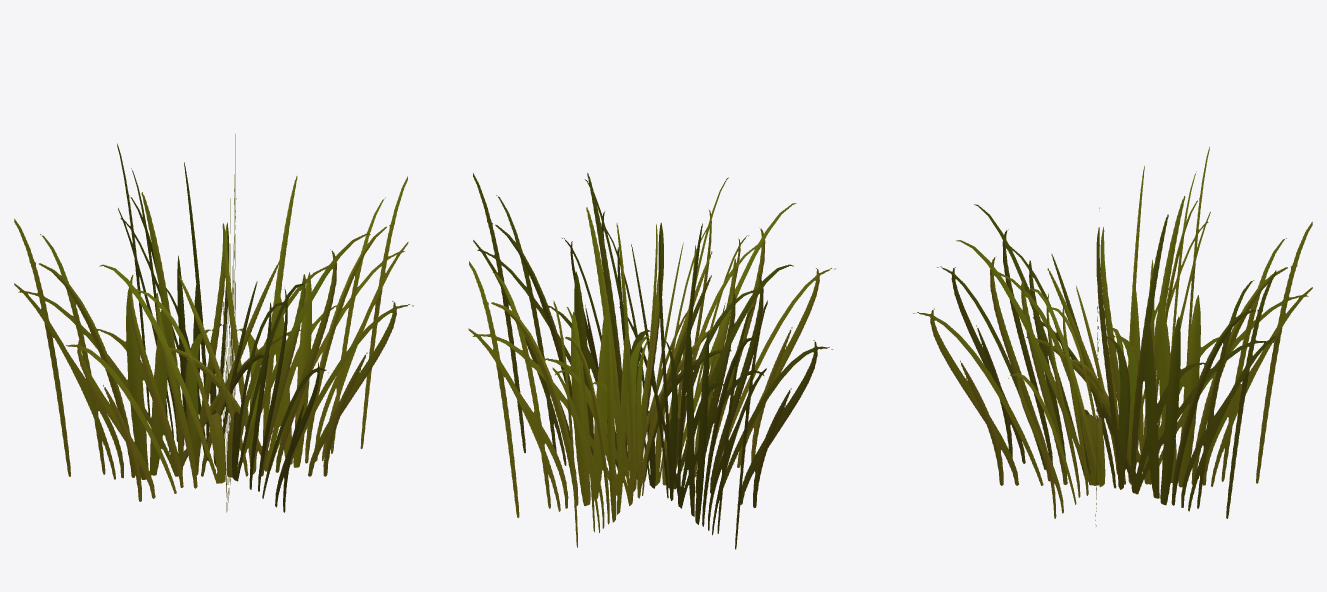
File: ARC0710014.fbx
3 renders of one model, left to right at view 1: azimuth 30°, elevation 25°; view 2: azimuth 150°, elevation 25°; view 3: azimuth 270°, elevation 25°, orthographic. The views are drawn at different scales.
Parts seen in each view (by area): view 1: smARC0710014; view 2: smARC0710014; view 3: smARC0710014.
Boxes of the visible parts, left/top/right/bottom form: smARC0710014: left=14, top=134, right=413, bottom=512; smARC0710014: left=468, top=173, right=835, bottom=549; smARC0710014: left=913, top=146, right=1312, bottom=526.
Bounding box in the file's own units: 42.27 × 42.27 × 42.27.
1 material, 1 textured.
